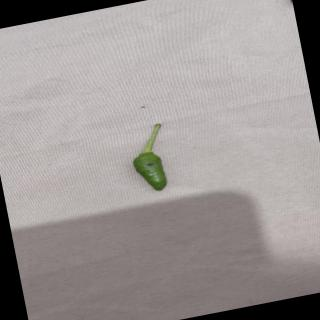Cabai Hijau: (122, 121, 179, 196)
